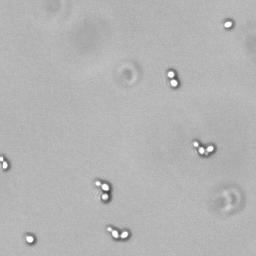budding: (90, 177, 117, 205), (104, 221, 133, 244), (190, 138, 217, 158), (165, 68, 181, 91)
individual: (21, 231, 39, 247), (222, 17, 236, 33)
